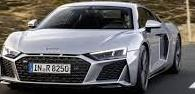Cars: (1, 3, 182, 91)
